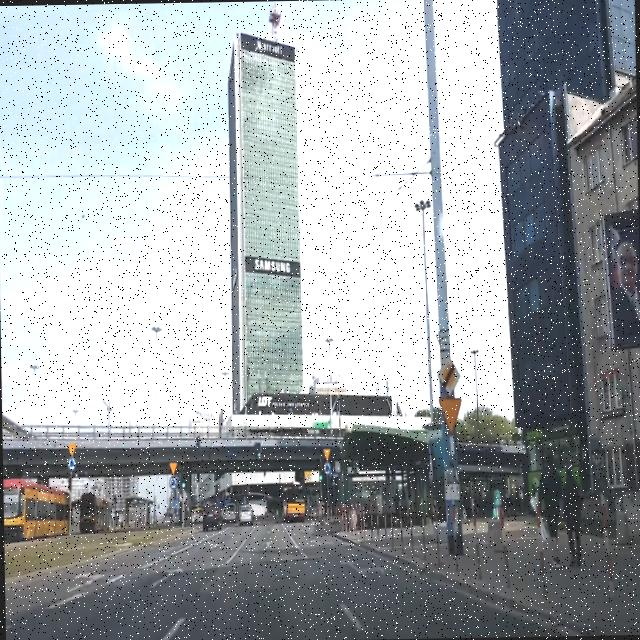Ustap pierwszenstwa: (438, 396, 462, 434), (168, 460, 177, 475), (322, 447, 331, 461), (67, 442, 75, 456)
